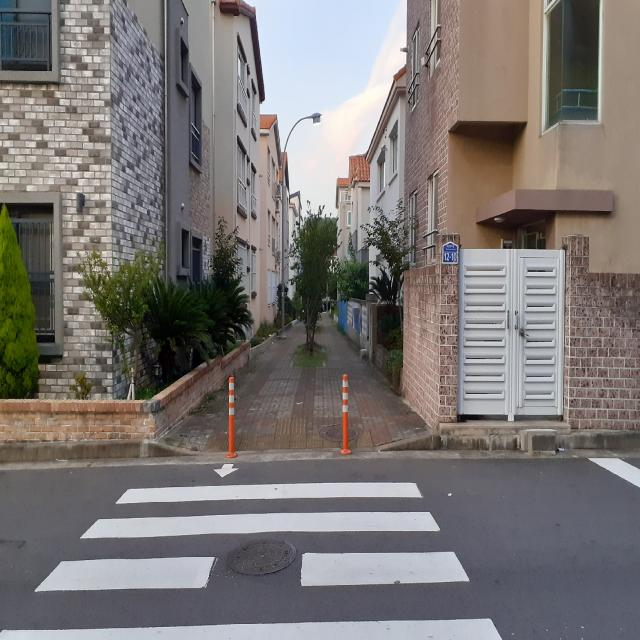횡단보도: (1, 460, 504, 640)
